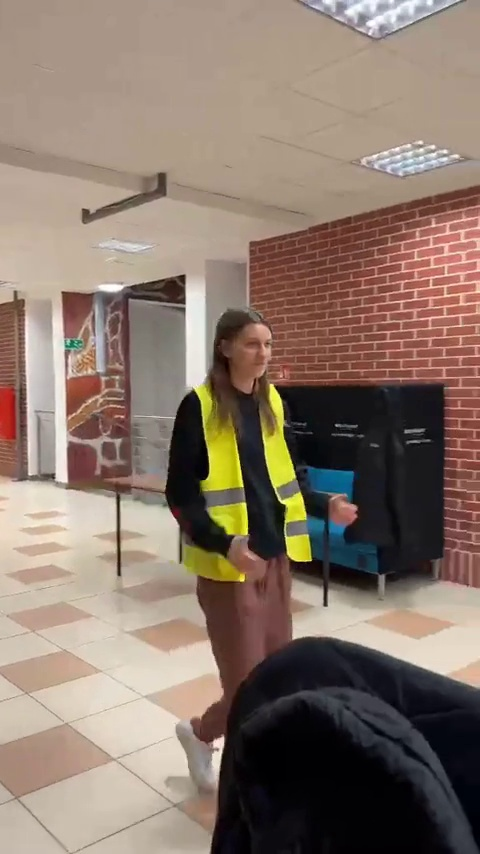vest: (171, 304, 353, 788)
